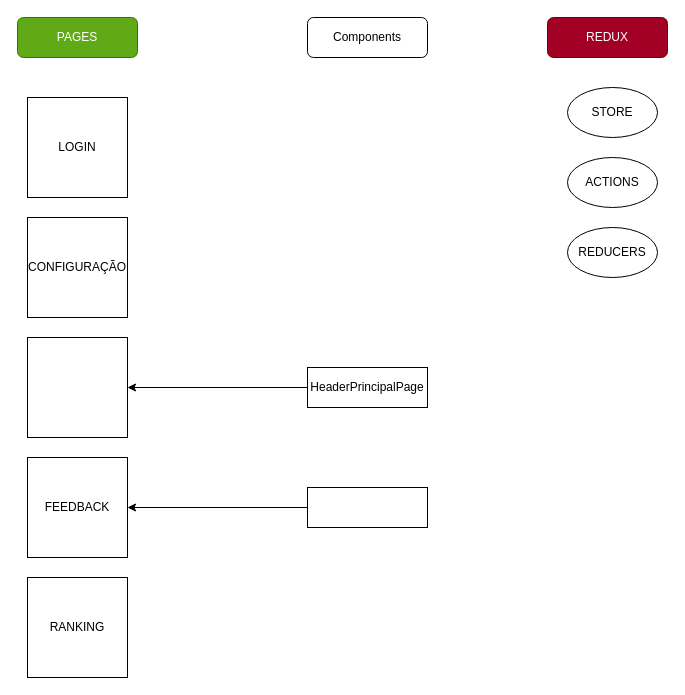
The diagram is 685 pixels wide and 695 high, and some of its shapes have lost their labels. Each missing label, with the centre of its shape:
HeaderFeedback: (x=367, y=507)
PRINCIPAL: (x=77, y=387)
